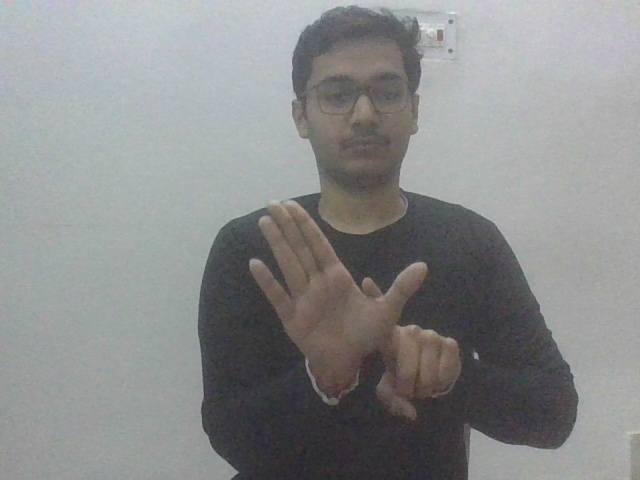Y: (247, 198, 461, 425)
